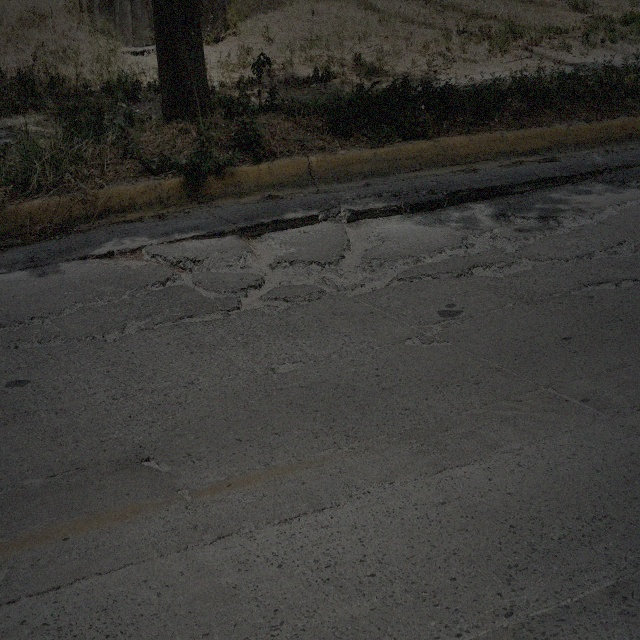pothole: (341, 182, 590, 271), (232, 262, 329, 320), (552, 200, 622, 239), (86, 238, 170, 267), (160, 254, 211, 296), (461, 225, 513, 260), (466, 256, 536, 282), (590, 242, 638, 268), (404, 333, 441, 355), (139, 447, 164, 477), (274, 360, 304, 376)
